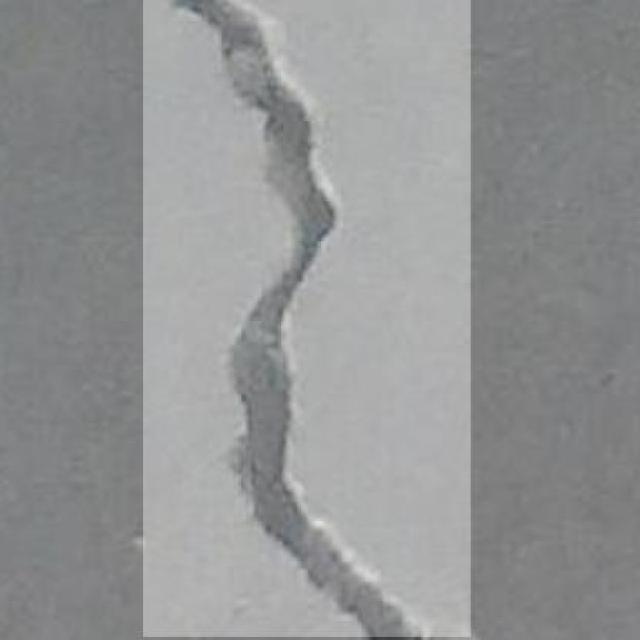Crack: (142, 0, 484, 640)
